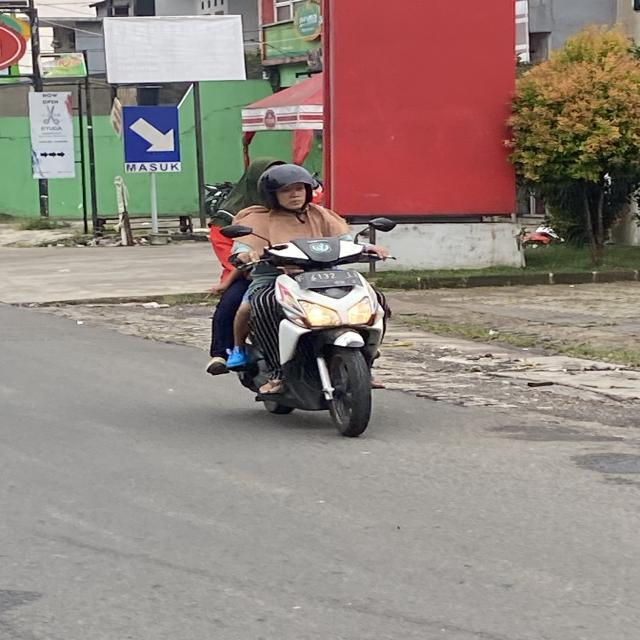Helmet: (258, 164, 317, 208)
Number Plate: (296, 270, 360, 288)
Rearview Mirror: (220, 225, 253, 239), (369, 217, 395, 231)
